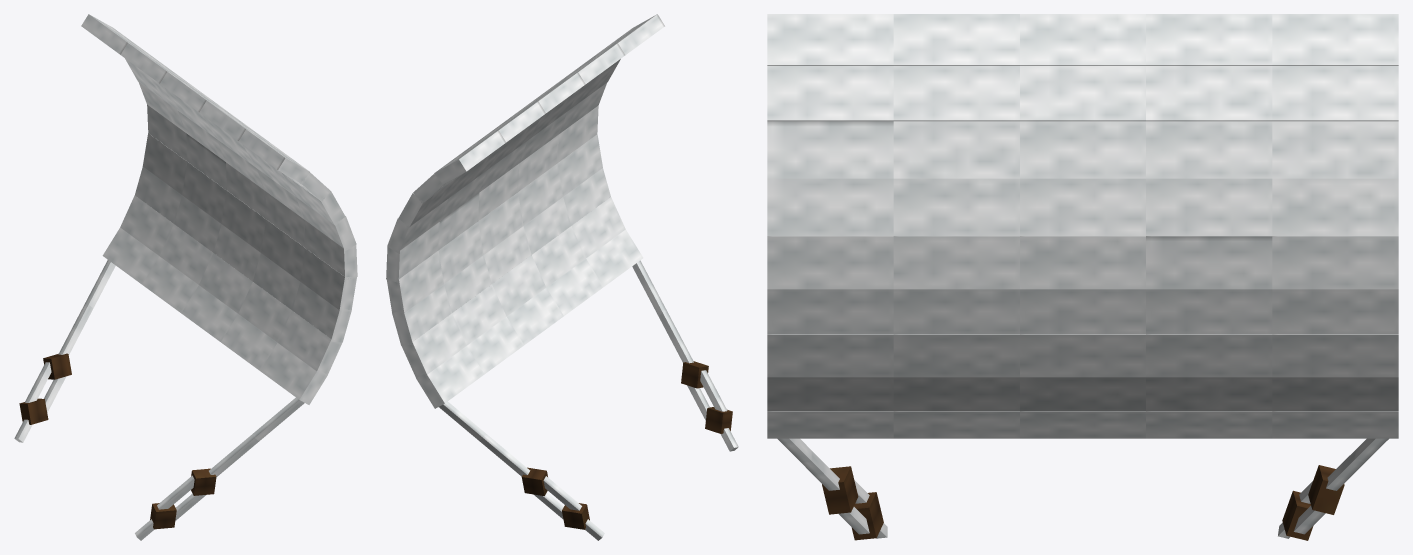
File: cog_segel_1_4.obj
3 views of the same model, side by side, from view 1: azimuth 30°, elevation 25°; view 2: azimuth 150°, elevation 25°; view 3: azimuth 270°, elevation 25° (orthographic). The views are drawn at different scales.
Parts seen in each view (by area): view 1: cube; view 2: cube; view 3: cube.
Boxes of the visible parts, x1,y1,x2,y2 form: cube: (14, 14, 357, 540); cube: (386, 14, 738, 540); cube: (767, 14, 1398, 540).
Bounding box in the file's own units: 1.88 × 3.67 × 3.44.
